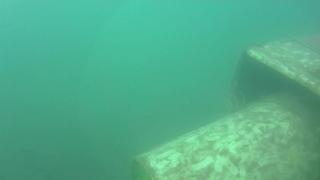pipe: (129, 89, 320, 180)
station: (229, 31, 320, 111)
